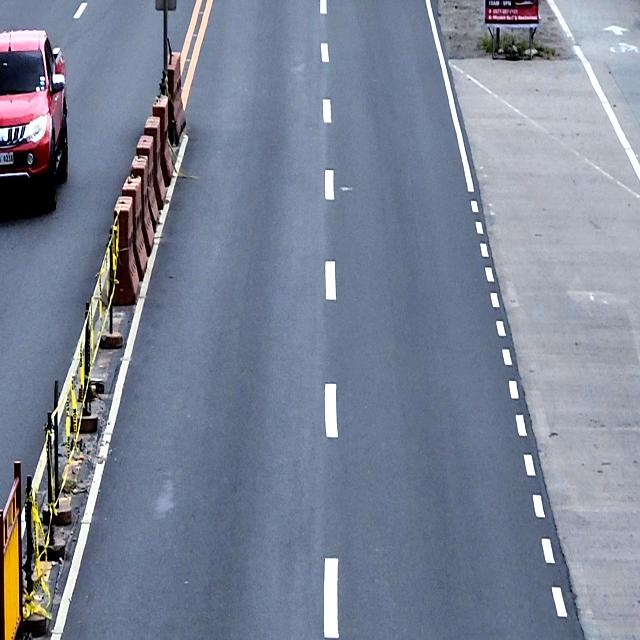Car: (0, 28, 68, 208)
License-Plate: (0, 150, 15, 166)
